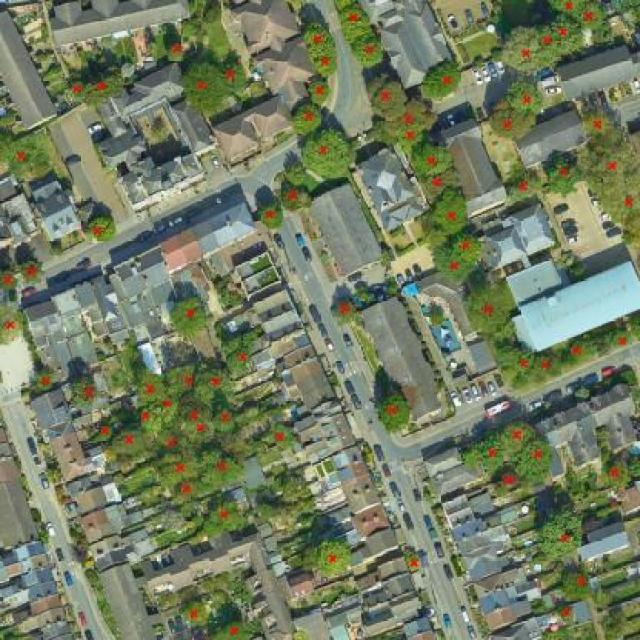tree: (598, 152, 640, 246), (0, 129, 55, 183), (300, 126, 355, 180), (580, 141, 635, 190), (464, 283, 513, 337), (183, 61, 226, 116), (539, 508, 582, 561), (381, 96, 438, 135), (489, 98, 536, 142), (192, 501, 245, 538), (432, 188, 470, 239), (170, 292, 207, 343), (367, 74, 408, 120), (583, 104, 623, 151), (198, 448, 247, 486), (433, 246, 478, 286), (309, 539, 353, 579), (502, 27, 542, 71), (520, 437, 554, 488), (411, 142, 457, 179), (422, 58, 462, 100), (545, 13, 587, 53), (526, 21, 563, 65), (225, 330, 258, 375), (547, 153, 584, 193), (417, 168, 463, 200), (506, 79, 545, 116), (110, 427, 152, 461), (165, 362, 202, 399), (504, 169, 542, 205), (561, 559, 593, 601), (496, 344, 536, 376), (379, 392, 410, 433), (216, 59, 250, 96), (152, 422, 189, 456), (198, 366, 232, 402), (300, 22, 337, 55), (0, 303, 26, 349), (561, 332, 596, 366), (350, 34, 384, 68), (502, 422, 536, 456), (278, 182, 313, 215), (340, 5, 371, 42), (135, 372, 168, 406), (596, 609, 632, 640), (598, 456, 630, 490), (452, 232, 486, 263), (155, 454, 198, 478), (482, 432, 506, 472), (69, 376, 97, 410), (395, 117, 423, 151), (171, 475, 203, 504), (152, 391, 180, 424), (528, 351, 562, 378), (579, 1, 606, 32), (135, 405, 161, 436), (182, 420, 216, 443), (264, 426, 298, 449), (208, 623, 254, 640), (295, 106, 320, 137), (180, 402, 212, 426), (87, 218, 116, 244), (19, 259, 46, 286), (312, 50, 338, 78), (182, 602, 209, 628), (83, 80, 109, 106), (331, 300, 357, 326), (259, 203, 285, 229), (213, 406, 236, 434), (549, 0, 584, 18), (99, 67, 125, 91), (308, 79, 331, 104), (497, 469, 521, 492), (66, 74, 86, 101), (590, 589, 613, 612), (202, 1, 224, 25), (609, 329, 633, 351), (286, 163, 308, 185), (402, 550, 423, 573), (555, 605, 576, 626), (168, 41, 187, 64), (626, 449, 640, 480), (462, 447, 482, 468), (426, 308, 445, 330), (0, 268, 18, 291), (573, 385, 593, 404), (36, 368, 53, 390), (96, 426, 113, 443), (48, 245, 64, 258)
